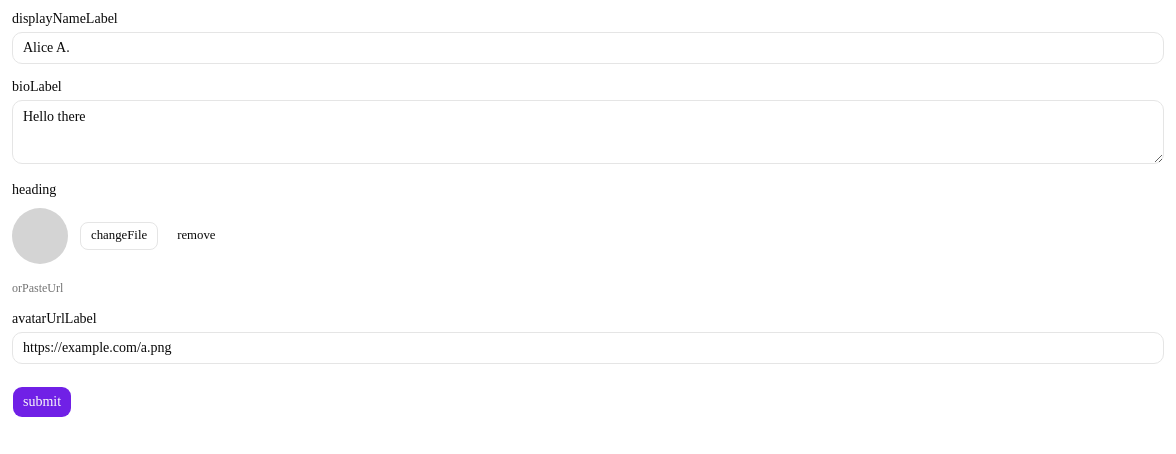
Test: AccountProfileForm › shows a field error and never hits the network for a malformed avatar URL
Replace the text in the field labelled "avatarUrlLabel" with "not-a-url" at (588, 348), box [12,332,1164,364]
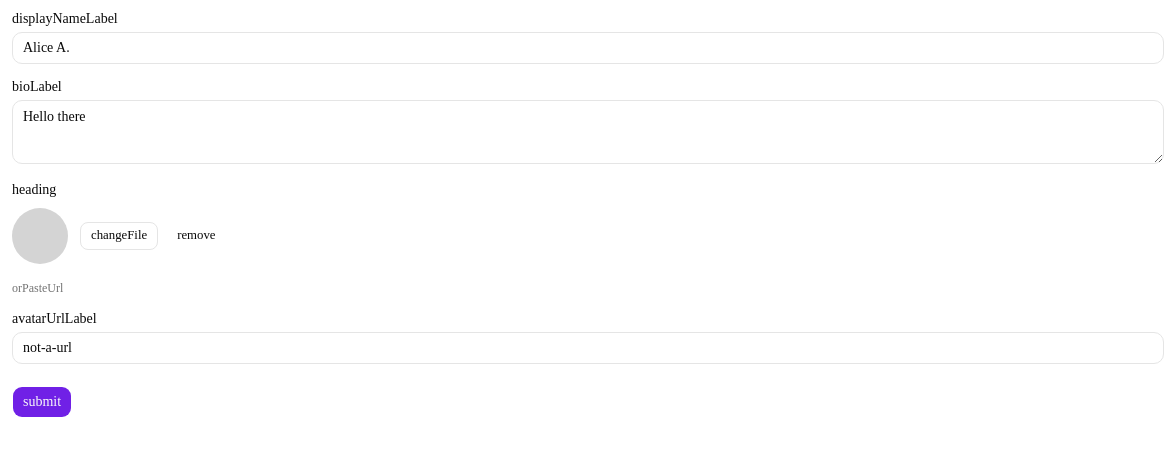
Click the button "submit" at (42, 402), box [12,386,72,418]
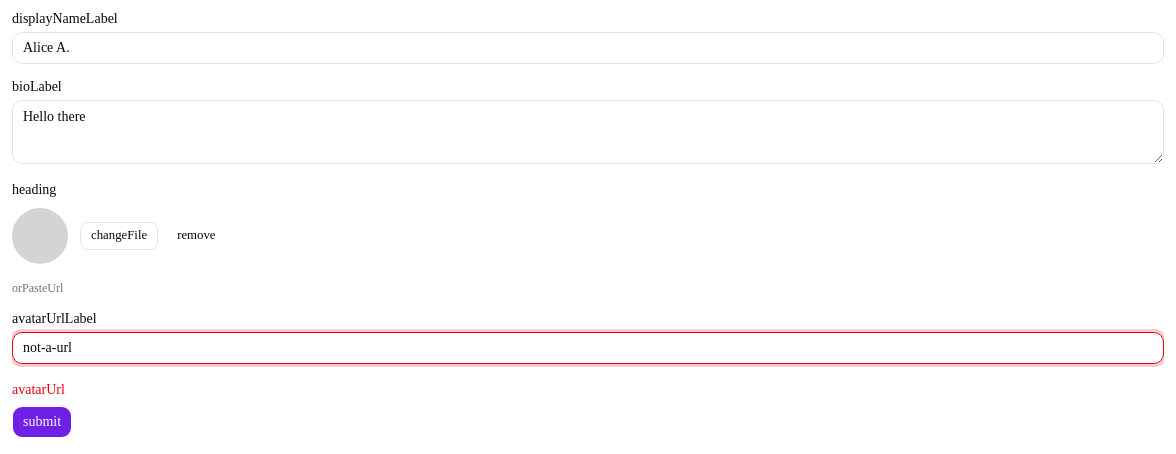
expect the text "avatarUrl" is shown: met, box [12,382,65,397]
